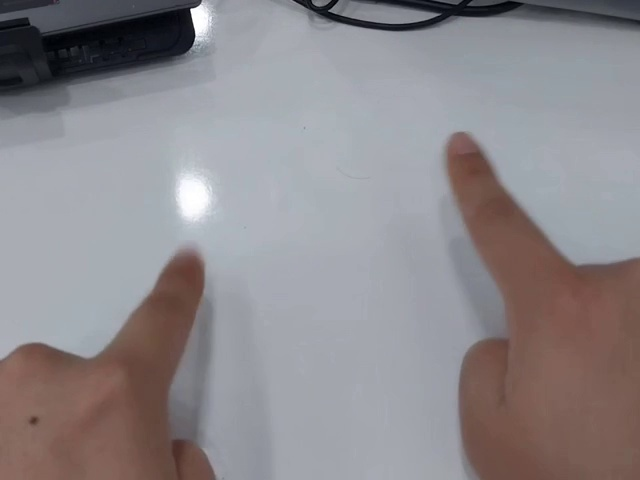fingers: (443, 129, 496, 180), (162, 247, 206, 294)
